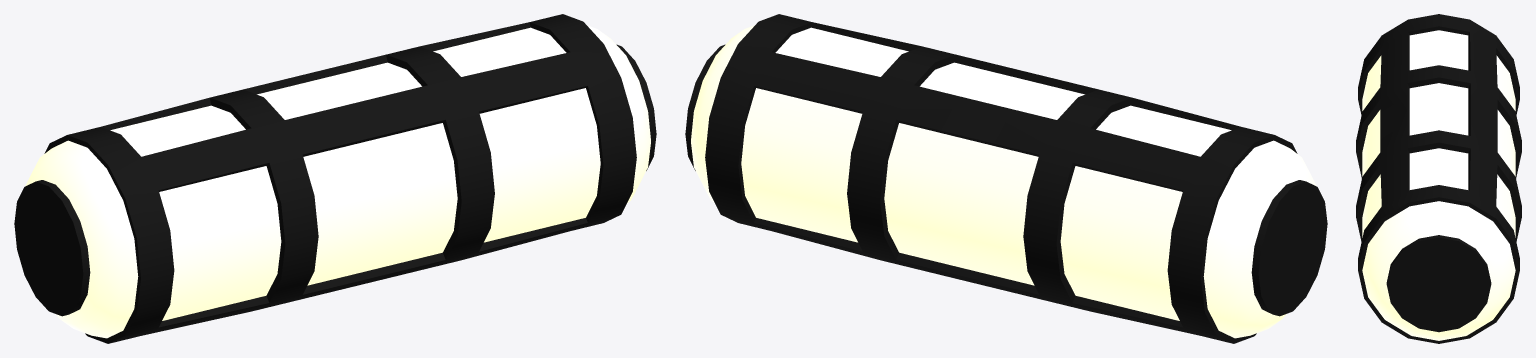
File: Ielsek Capsule.fbx
The picture shows the model from 3 angles, left to right: view 1: azimuth 30°, elevation 25°; view 2: azimuth 150°, elevation 25°; view 3: azimuth 270°, elevation 25°; orthographic projection. The views are drawn at different scales.
Visible parts, largest first — view 1: Ielsek Capsule; view 2: Ielsek Capsule; view 3: Ielsek Capsule.
Part boxes in pixels (<box>): Ielsek Capsule: <box>14,14,656,343</box>; Ielsek Capsule: <box>685,14,1327,343</box>; Ielsek Capsule: <box>1356,14,1521,343</box>.
Bounding box in the file's own units: 131 × 43.22 × 43.22.
